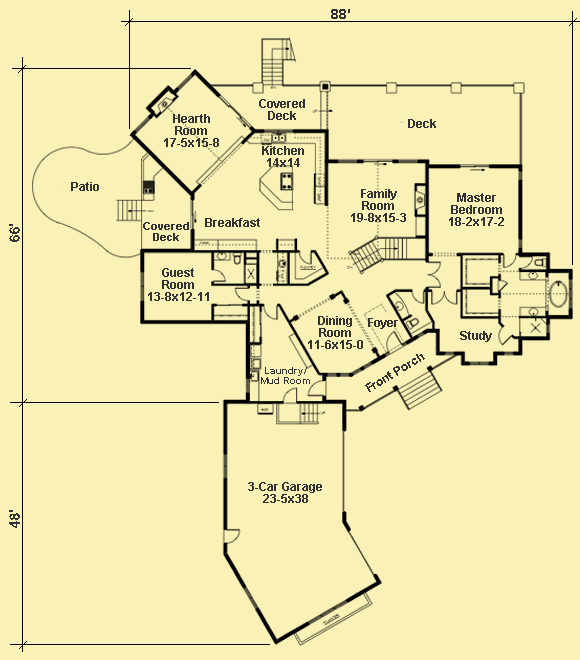door: (221, 522, 247, 552), (429, 285, 460, 308), (382, 326, 404, 355), (426, 259, 445, 292), (303, 378, 327, 399), (296, 245, 316, 266), (280, 384, 300, 405), (496, 326, 515, 345), (408, 286, 426, 304), (263, 301, 280, 320), (231, 286, 251, 302), (209, 265, 226, 283), (501, 248, 515, 269)
kitchen bar: (254, 157, 296, 212)
large sink: (231, 249, 245, 268), (533, 253, 545, 271)
small sink: (519, 269, 545, 285), (518, 306, 547, 320), (210, 249, 229, 262)
stairs: (345, 231, 427, 274), (258, 32, 298, 90), (396, 372, 446, 412), (273, 403, 326, 428), (111, 197, 152, 224)
tub: (545, 272, 574, 320)
windows: (449, 159, 494, 173), (357, 156, 396, 170)
